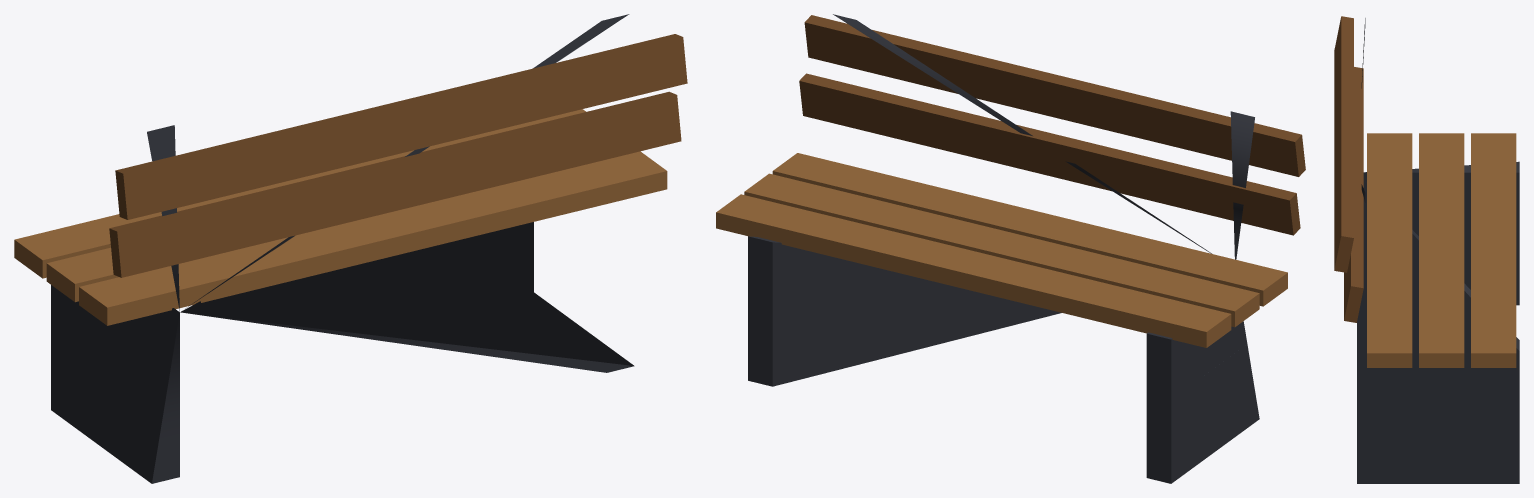
Rendered from prop_bench_01_lod1.glb.
The picture shows the model from 3 angles, left to right: view 1: azimuth 30°, elevation 25°; view 2: azimuth 150°, elevation 25°; view 3: azimuth 270°, elevation 25°; orthographic projection. The views are drawn at different scales.
Parts seen in each view (by area): view 1: prop_bench_01; view 2: prop_bench_01; view 3: prop_bench_01.
Boxes of the visible parts, box(x1,y1,x2,y2) form: prop_bench_01: box(14, 14, 687, 483); prop_bench_01: box(716, 14, 1305, 483); prop_bench_01: box(1334, 16, 1519, 483).
Bounding box in the file's own units: 1.6 × 0.9513 × 0.5704.
